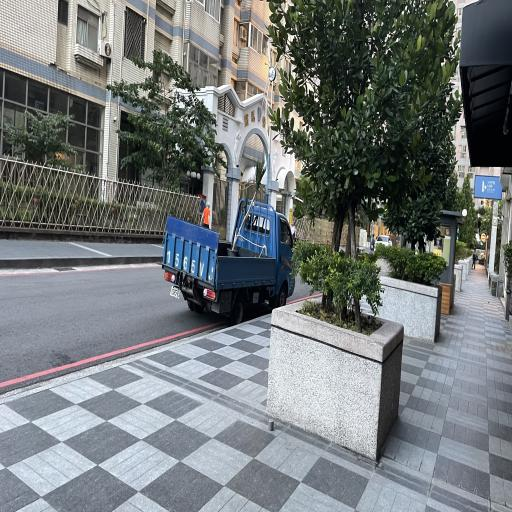MIU: (174, 276, 248, 348), (260, 264, 306, 328)
car: (159, 181, 294, 333)
redline: (0, 314, 236, 397), (282, 282, 328, 312)
